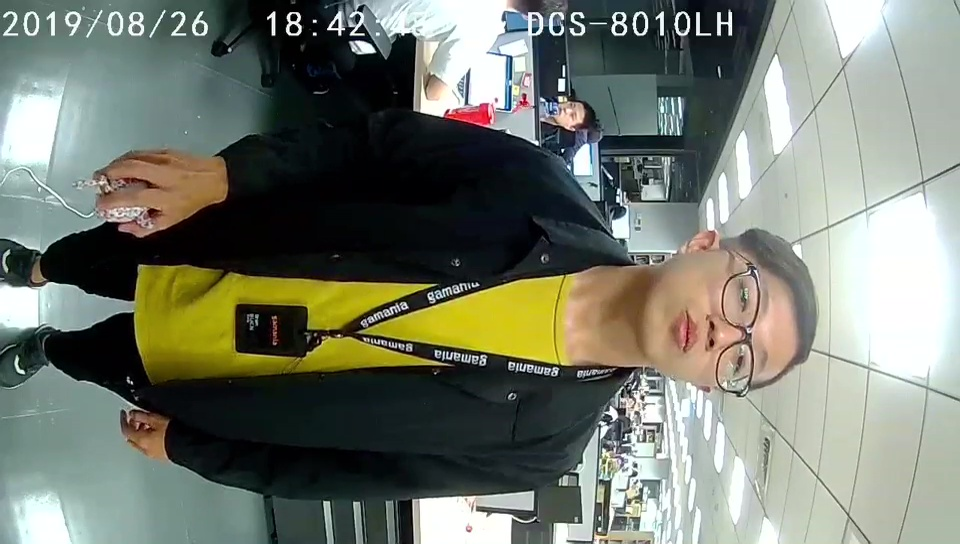pig: (92, 175, 156, 233)
